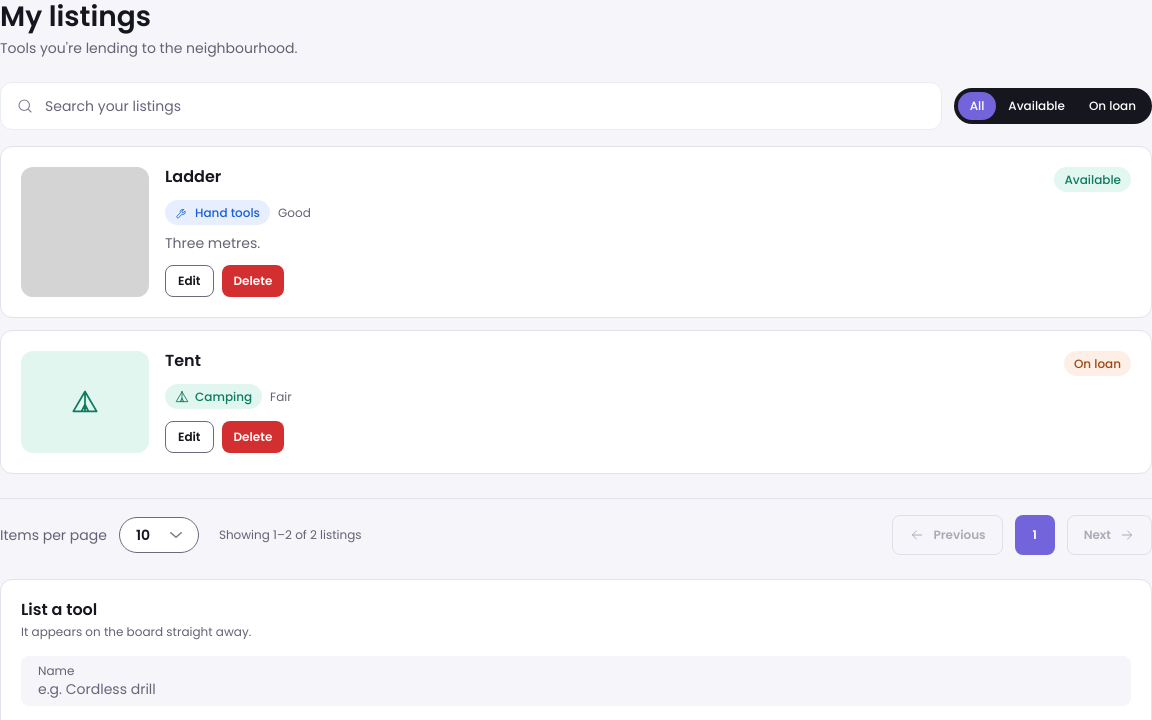
Test: ListingsScreen › a server refusal stays in the dialog
What coordinates should you click on to do the following:
click the button "Delete" below "Camping"
I would click on:
 (253, 437)
Its box is [222,421,284,453].
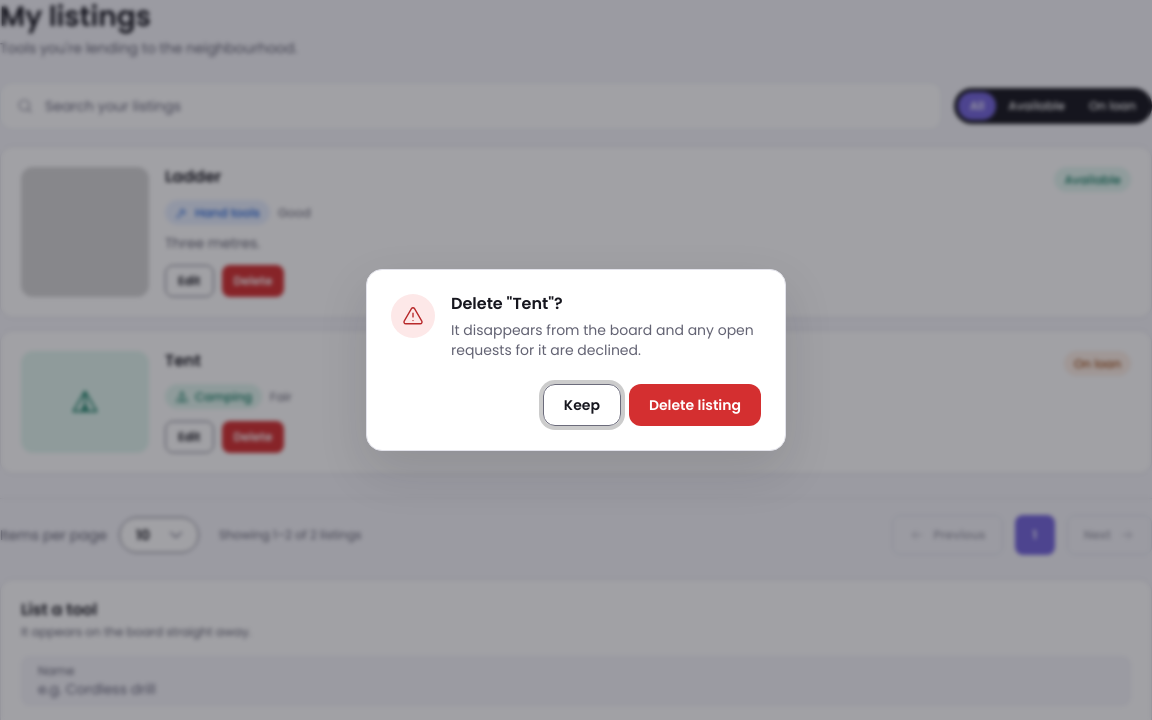
What coordinates should you click on to do the following:
click the button "Delete listing"
I would click on:
 (695, 405)
Its box is [629,384,761,426].
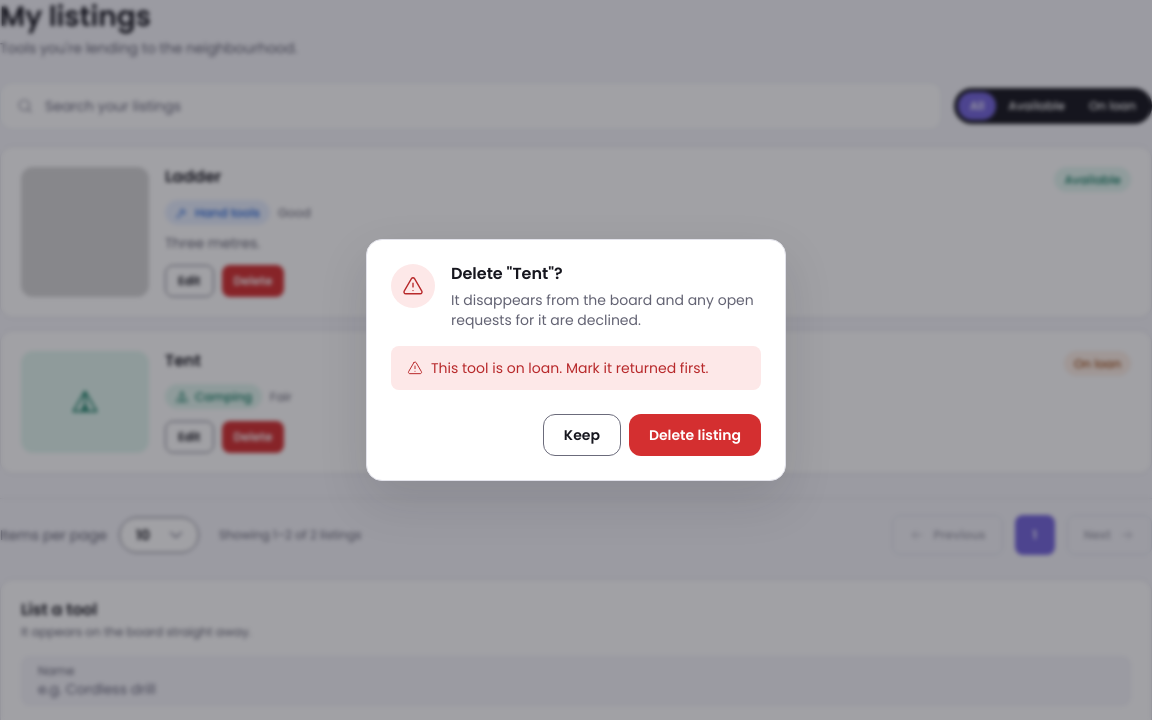
Now the text "This tool is on loan. Mark it returned first." is shown, box [431,358,708,378]
